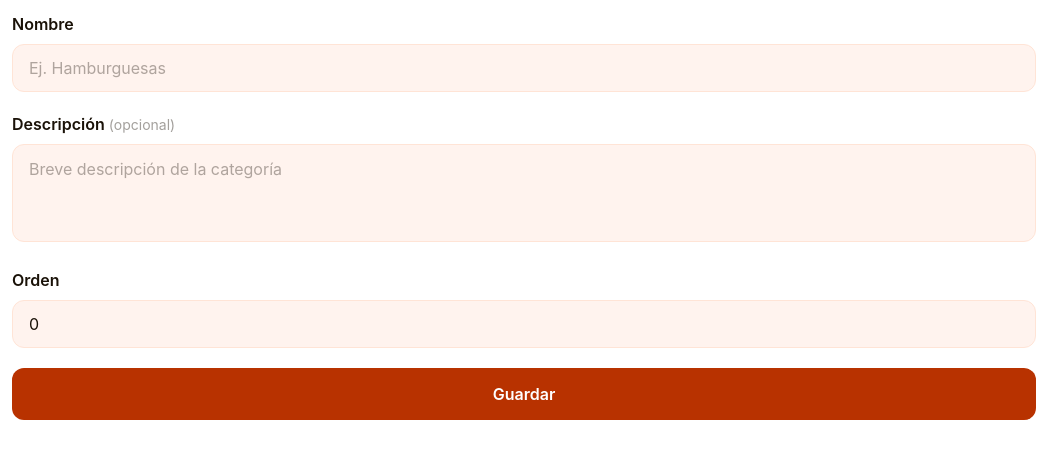
Test case: CategoryForm › shows validation error when name is empty
Click the button "Guardar": (524, 394) [12,368,1036,420]
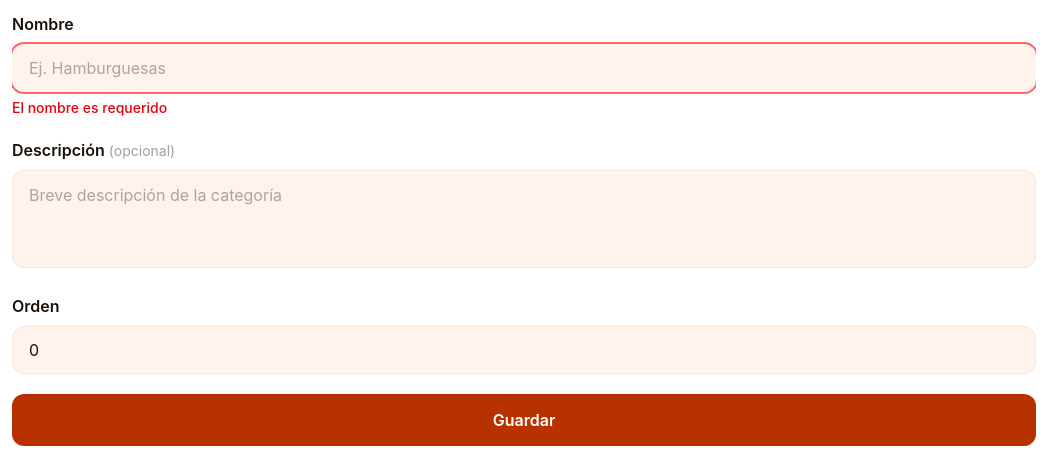
Result: the text "El nombre es requerido" is shown at [12,99,167,116]
